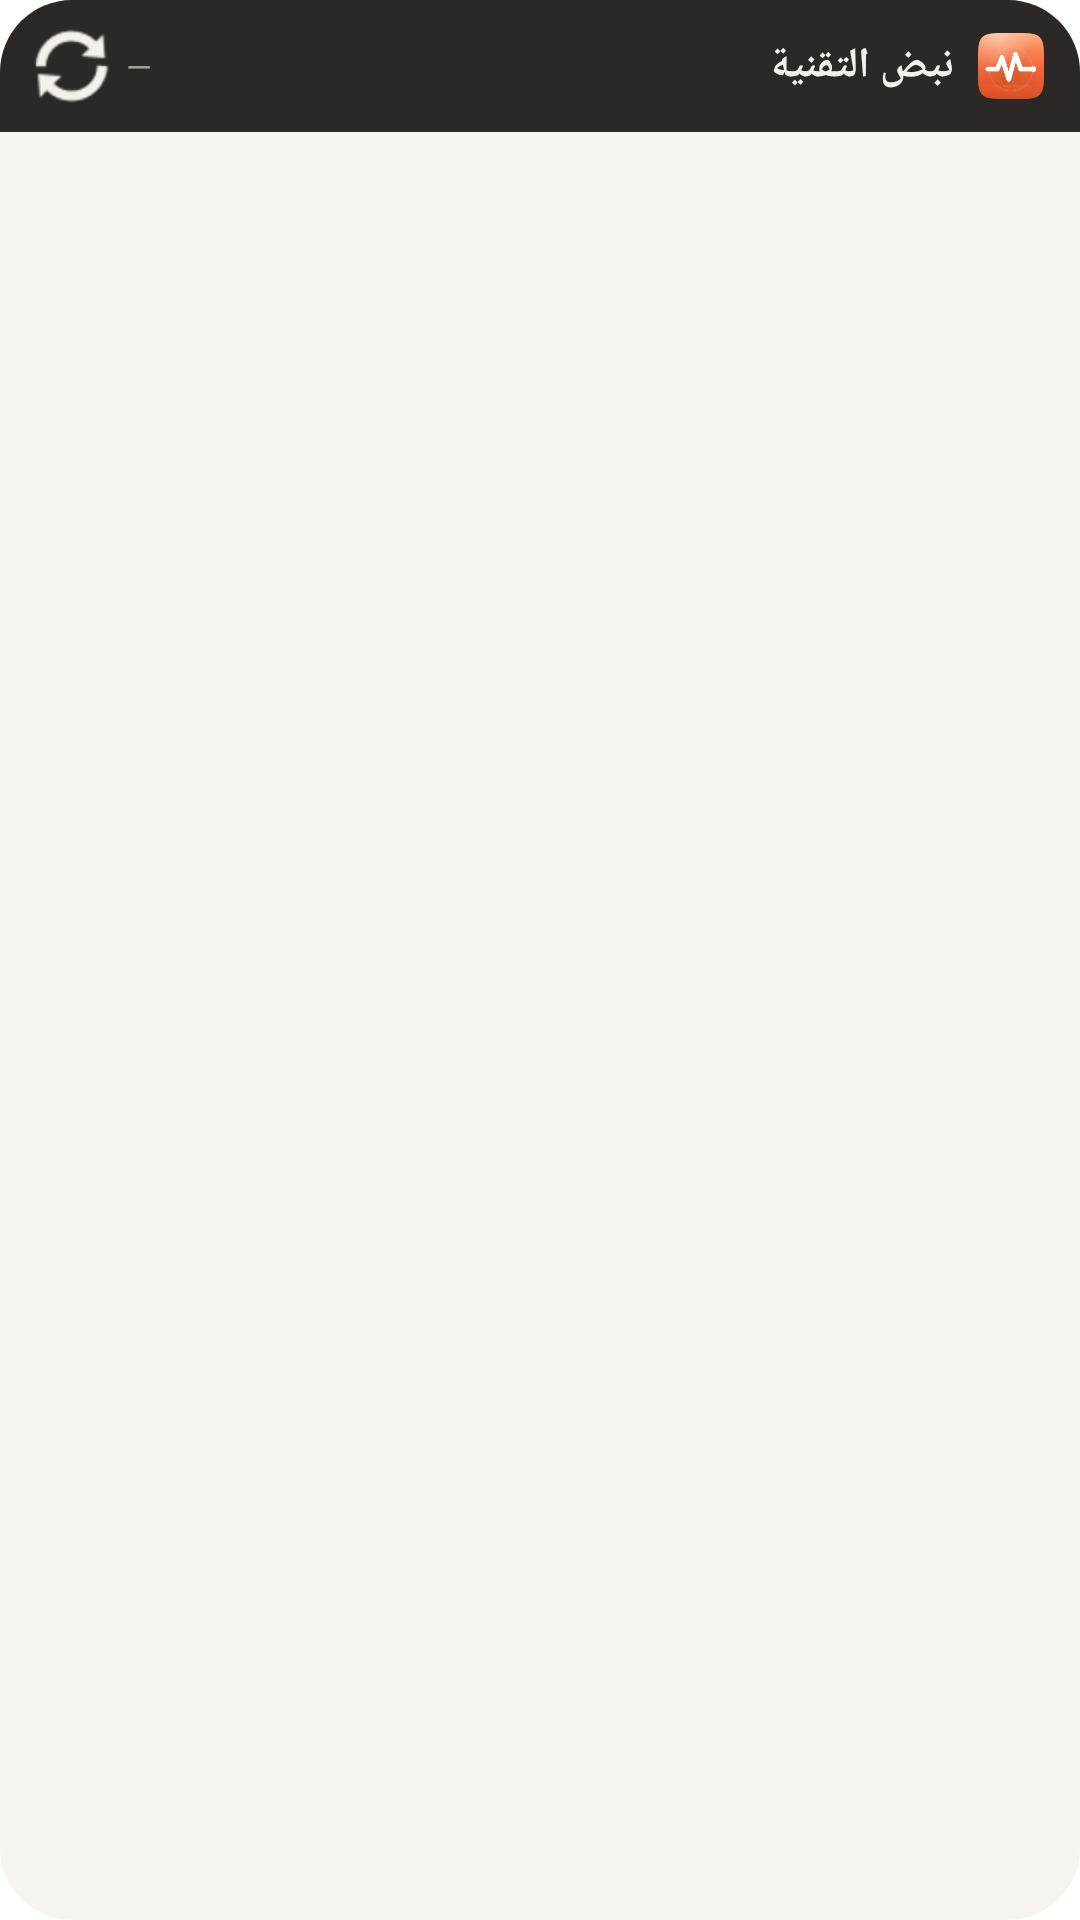

Icons on this 1080x1920 Android screen, each with its box as (x1, y1, x2, y2):
تحديث: (35, 30, 108, 102)
